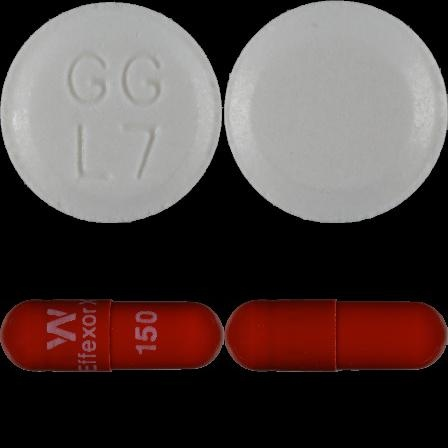67544-161: (0, 0, 224, 224)
